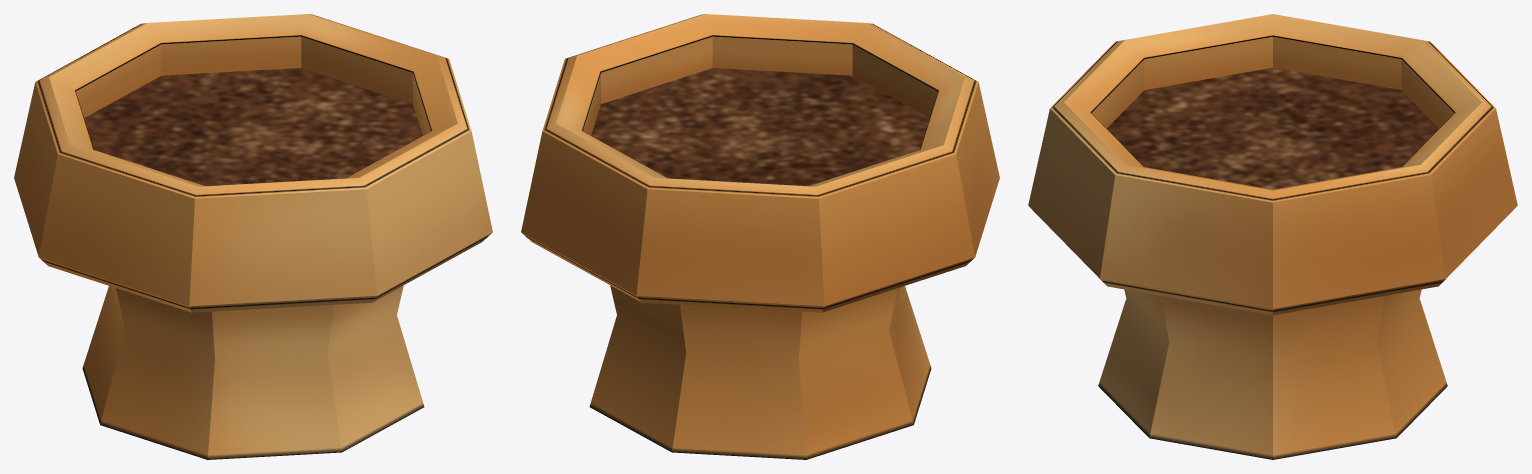
Rendered from pot.fbx.
3 views of the same model, side by side, from view 1: azimuth 30°, elevation 25°; view 2: azimuth 150°, elevation 25°; view 3: azimuth 270°, elevation 25° (orthographic).
Parts seen in each view (by area): view 1: pot; view 2: pot; view 3: pot.
Boxes of the visible parts, x1,y1,x2,y2 form: pot: [14, 14, 492, 459]; pot: [521, 14, 999, 459]; pot: [1028, 14, 1517, 459].
Size of the model in its own units: 2.93 by 1.87 by 2.93.
1 material, 1 textured.
